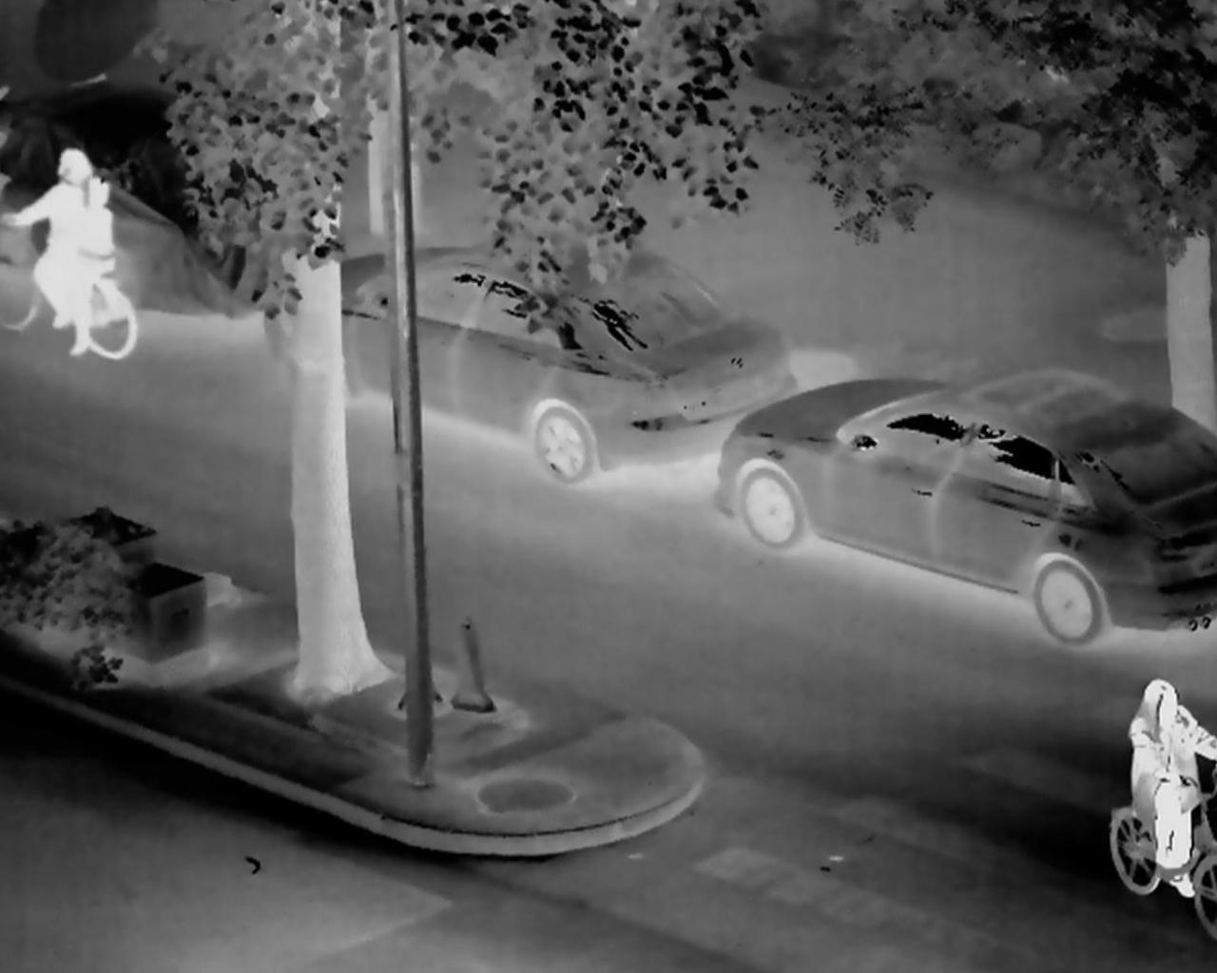person: (1089, 667, 1217, 925), (8, 144, 96, 325), (59, 180, 133, 351)
